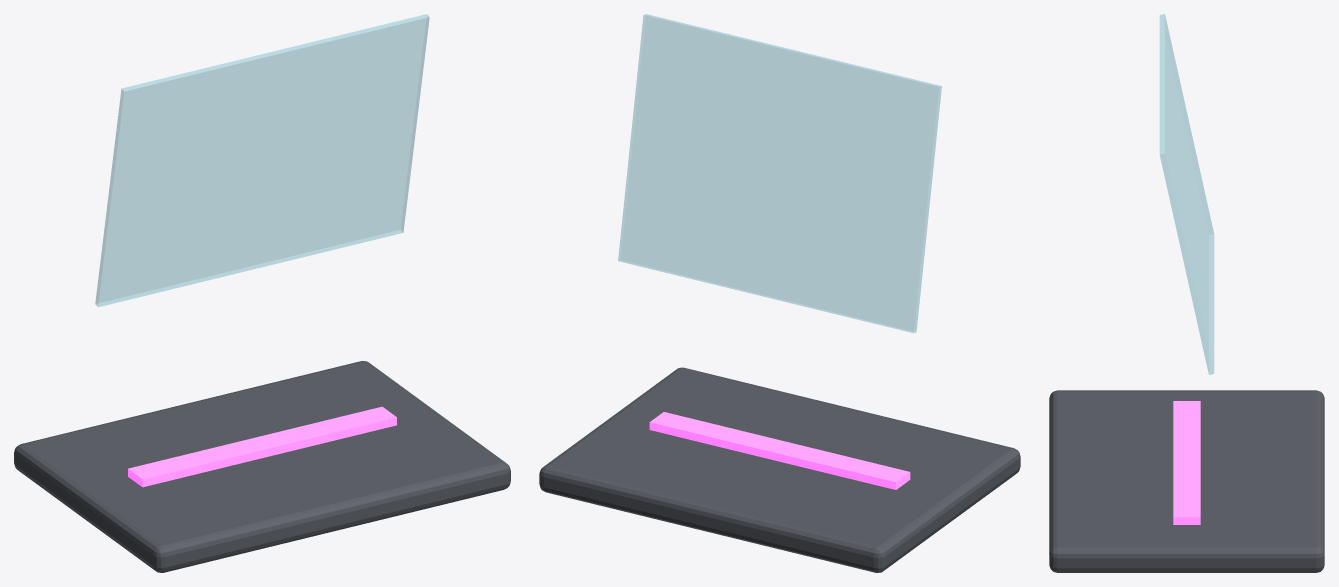
The model's file is datapad_holo_slate.glb.
The picture shows the model from 3 angles, left to right: view 1: azimuth 30°, elevation 25°; view 2: azimuth 150°, elevation 25°; view 3: azimuth 270°, elevation 25°; orthographic projection. The views are drawn at different scales.
Parts seen in each view (by area): view 1: GD_datapad_holo_slate__m1, GD_datapad_holo_slate__m0, GD_datapad_holo_slate__m2; view 2: GD_datapad_holo_slate__m1, GD_datapad_holo_slate__m0, GD_datapad_holo_slate__m2; view 3: GD_datapad_holo_slate__m0, GD_datapad_holo_slate__m1, GD_datapad_holo_slate__m2.
Part boxes in pixels (box(x1,y1,x2,y2)): GD_datapad_holo_slate__m1: box(95, 14, 429, 307); GD_datapad_holo_slate__m0: box(14, 361, 510, 572); GD_datapad_holo_slate__m2: box(128, 406, 396, 487); GD_datapad_holo_slate__m1: box(618, 14, 941, 333); GD_datapad_holo_slate__m0: box(539, 367, 1020, 572); GD_datapad_holo_slate__m2: box(649, 412, 910, 489); GD_datapad_holo_slate__m0: box(1049, 390, 1324, 572); GD_datapad_holo_slate__m1: box(1159, 14, 1214, 374); GD_datapad_holo_slate__m2: box(1173, 401, 1200, 524).
Size of the model in its own units: 0.14 by 0.1643 by 0.1.
